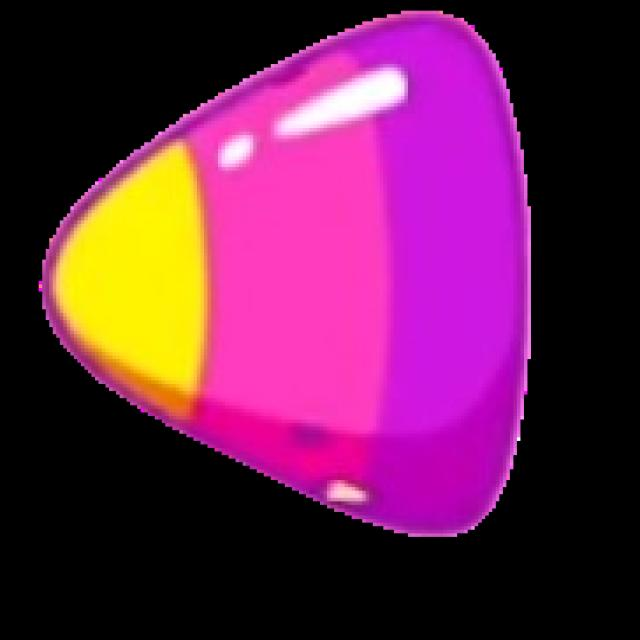Ground Monster - Red Bullet: (35, 7, 535, 541)
